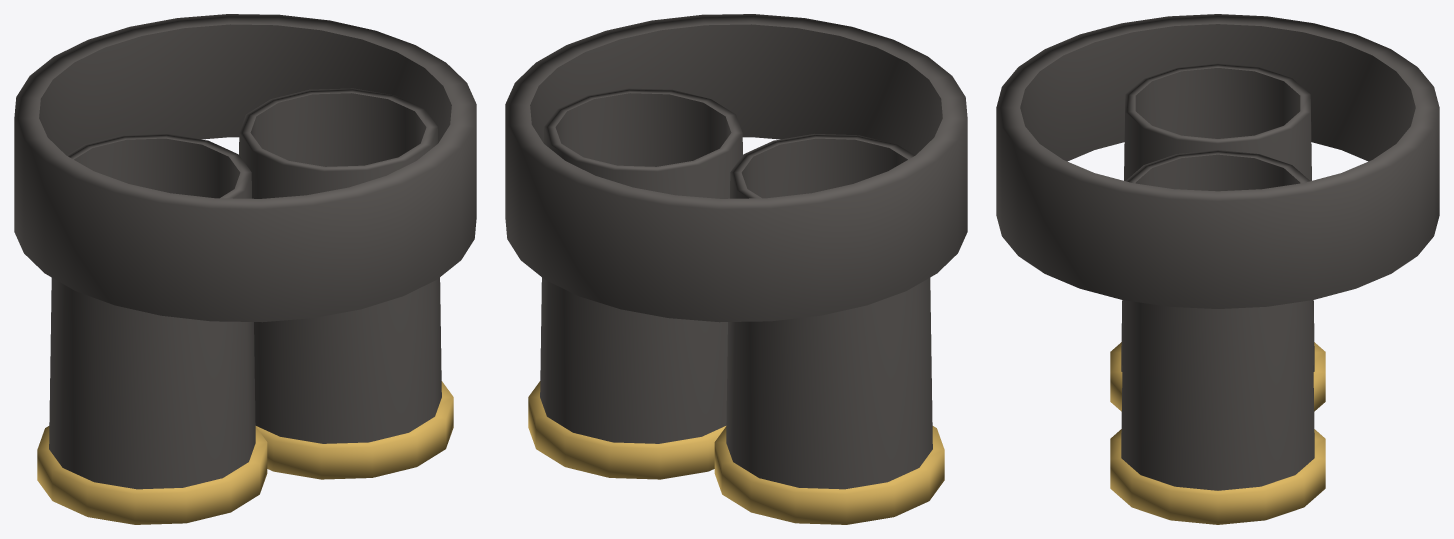
The model's file is cuffed_pants.glb.
The picture shows the model from 3 angles, left to right: view 1: azimuth 30°, elevation 25°; view 2: azimuth 150°, elevation 25°; view 3: azimuth 270°, elevation 25°; orthographic projection. The views are drawn at different scales.
Parts seen in each view (by area): view 1: cuffed_pants_Body, cuffed_pants_LegL, cuffed_pants_LegR; view 2: cuffed_pants_Body, cuffed_pants_LegL, cuffed_pants_LegR; view 3: cuffed_pants_Body, cuffed_pants_LegR, cuffed_pants_LegL.
Part boxes in pixels (box(x1,y1,x2,y2)): cuffed_pants_Body: box(14, 14, 476, 322); cuffed_pants_LegL: box(37, 134, 267, 524); cuffed_pants_LegR: box(239, 88, 453, 479); cuffed_pants_Body: box(505, 14, 967, 322); cuffed_pants_LegL: box(714, 134, 944, 524); cuffed_pants_LegR: box(528, 88, 742, 479); cuffed_pants_Body: box(996, 14, 1439, 308); cuffed_pants_LegR: box(1110, 150, 1325, 524); cuffed_pants_LegL: box(1110, 63, 1325, 411).
Bounding box in the file's own units: 0.41 × 0.334 × 0.41.
